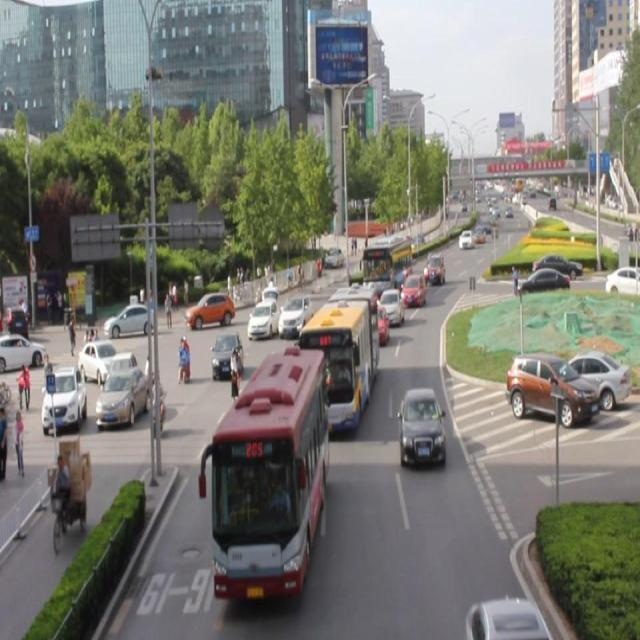car: (464, 595, 550, 640), (398, 384, 445, 466), (253, 363, 297, 423), (325, 289, 368, 330), (210, 331, 243, 379), (276, 293, 312, 336), (247, 298, 280, 340), (359, 300, 388, 346), (377, 286, 403, 327), (401, 272, 425, 308), (423, 249, 444, 284)
van: (211, 351, 325, 592), (300, 287, 376, 431), (363, 238, 412, 294)
